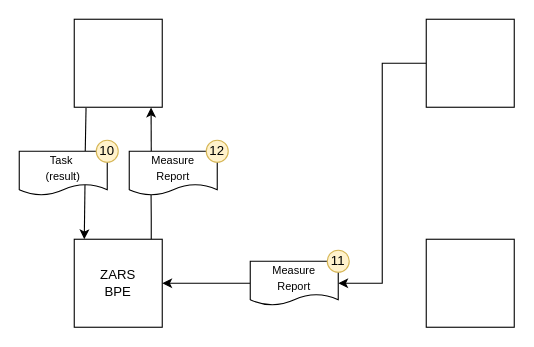
The diagram is 534 pixels wide and 347 high, and some of its shapes have lost their labels. The centre of each missing label's shape, as x and y in pixels:
DIZ BPE: the point at 469,282
DIZ FHIR: the point at 469,62
ZARS FHIR: the point at 117,62
